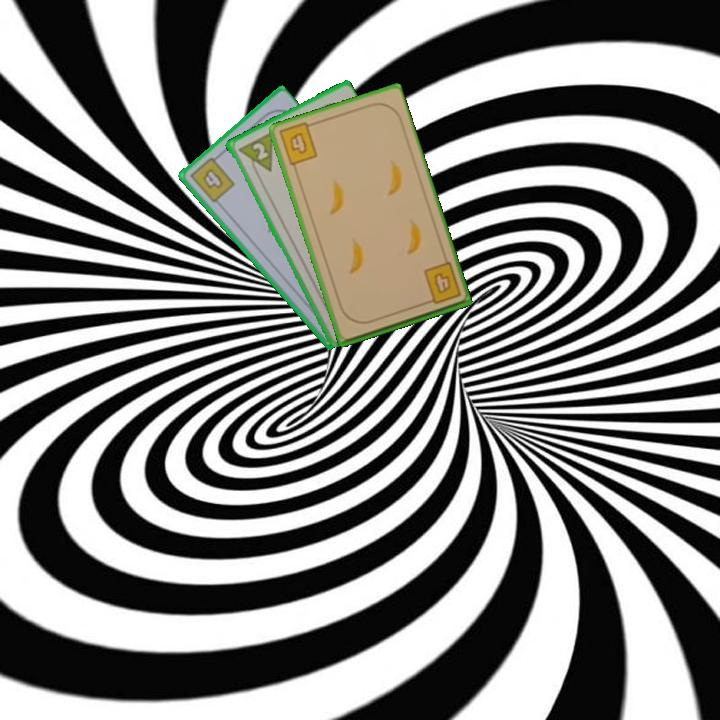2p: (234, 129, 276, 180)
4b: (186, 151, 238, 206), (276, 119, 320, 169), (420, 259, 464, 307)
